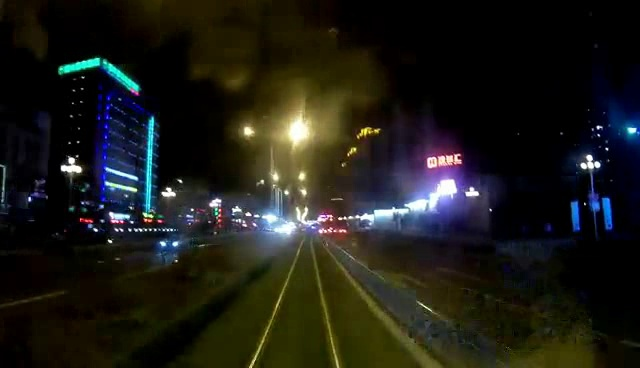car: (158, 233, 195, 252)
